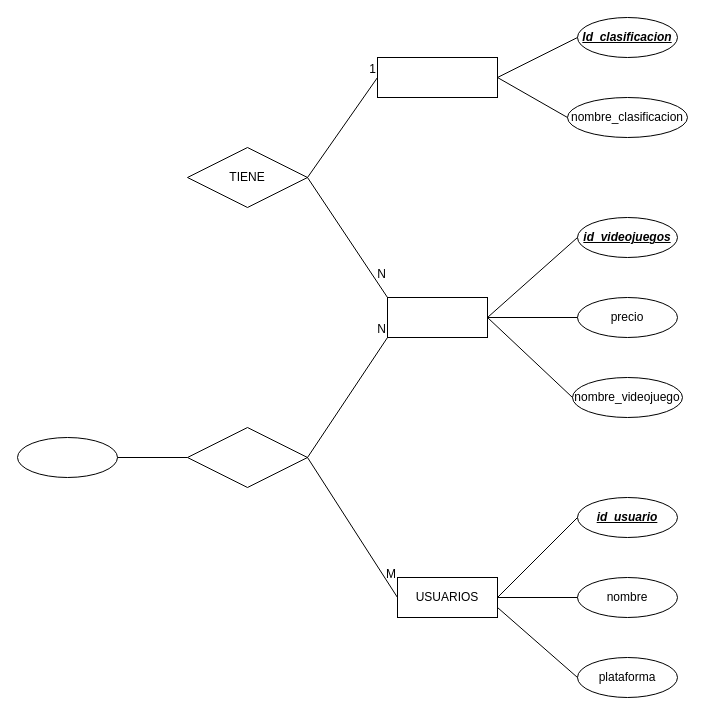
Image size: 705x715. Some labels were removed from this diagram. The box of each missing label's shape, as (x1, y1, x2, y2) in pixels:
Año: (16, 436, 118, 478)
CLASIFICACIONES: (376, 56, 498, 98)
COMPRA: (186, 426, 308, 488)
VIDEOJUEGOS: (386, 296, 488, 338)
